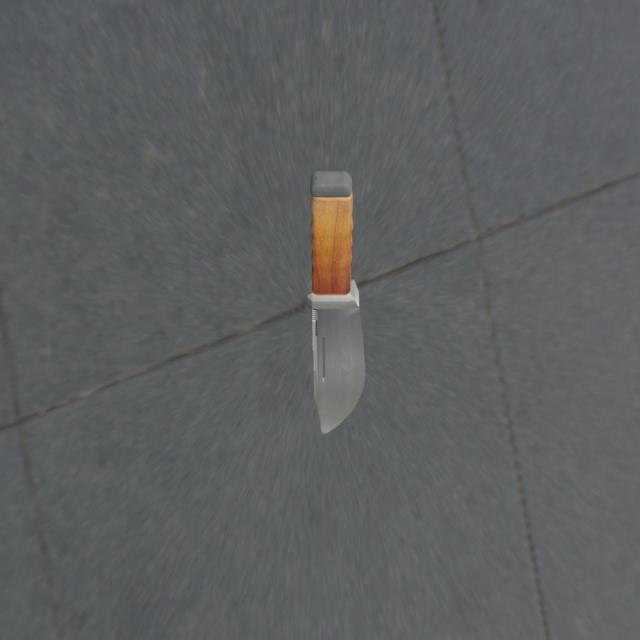knife: (308, 194, 353, 302)
